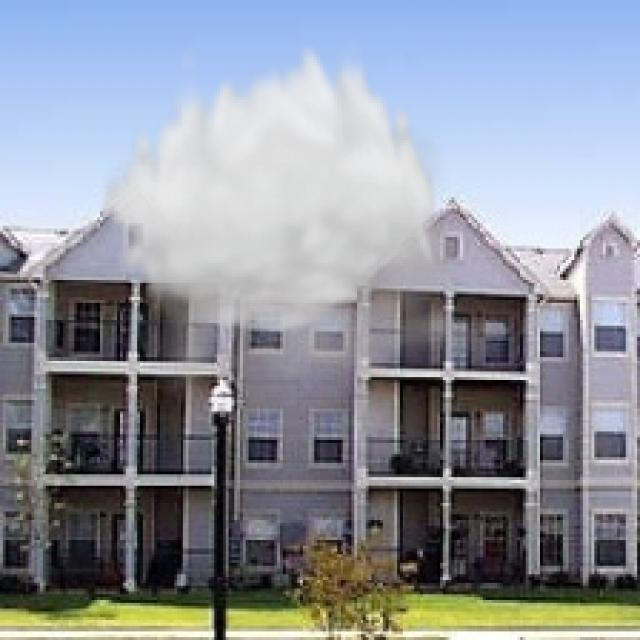Smoke: (97, 37, 512, 406)
